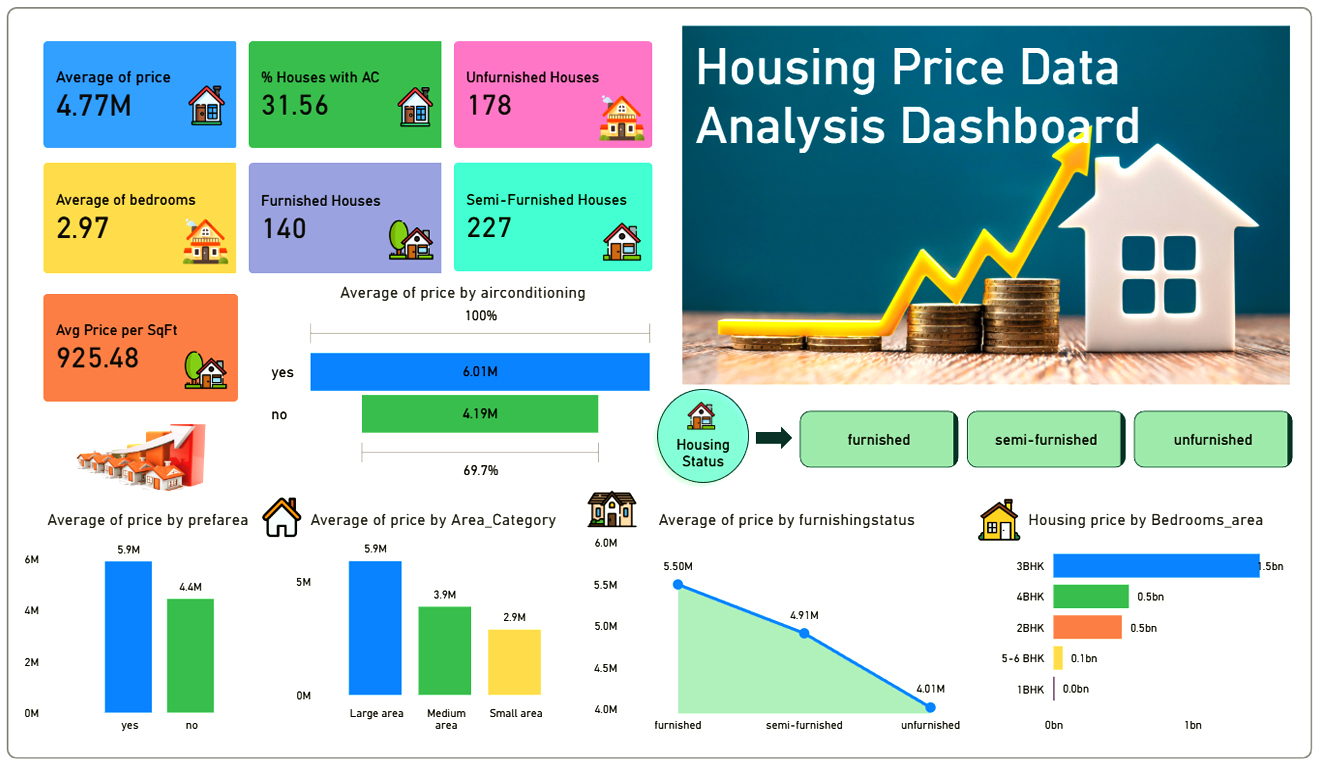

The dashboard page shown, as its layout file describes it:
{"tool":"powerbi","page":{"name":"Page 1","canvas":[1300,750],"ordinal":0},"visuals":[{"type":"shape","box":[637.6,370.3,108.6,109.6],"z":0},{"type":"image","box":[671.6,23.6,593.2,358],"z":1000},{"type":"shape","box":[681,31.2,498.7,130.4],"z":2000},{"type":"cardVisual","fields":{"Data":["Avg(Housing.price)"]},"box":[31.2,27.4,224.8,137.9],"z":3000},{"type":"cardVisual","fields":{"Data":["Avg(Housing.bedrooms)"]},"box":[31.2,144.5,224.8,141.7],"z":4000},{"type":"cardVisual","fields":{"Data":["Housing.Avg Price per SqFt"]},"box":[31.2,271.1,224.8,138.9],"z":5000},{"type":"cardVisual","fields":{"Data":["Housing.% Houses with AC"]},"box":[231.4,27.4,226.7,137.9],"z":6000},{"type":"cardVisual","fields":{"Data":["Housing.Furnished Houses"]},"box":[231.4,144.5,226.7,141.7],"z":7000},{"type":"cardVisual","fields":{"Data":["Housing.Semi-Furnished Houses"]},"box":[431.7,144.5,228.6,139.8],"z":8000},{"type":"cardVisual","fields":{"Data":["Housing.Unfurnished Houses"]},"box":[431.7,27.4,228.6,137.9],"z":9000},{"type":"columnChart","fields":{"Category":["Housing.Area_Category"],"Y":["Avg(Housing.price)"]},"box":[289,495.9,279.6,222],"z":10000},{"type":"areaChart","fields":{"Category":["Housing.furnishingstatus"],"Y":["Avg(Housing.price)"]},"box":[579,495.9,389.2,222],"z":11000},{"type":"funnel","fields":{"Category":["Housing.airconditioning"],"Y":["Avg(Housing.price)"]},"box":[265.4,276.8,384.4,195.5],"z":12000},{"type":"barChart","title":"Housing price by Bedrooms_area","fields":{"Category":["Housing.Bedrooms_area"],"Y":["Sum(Housing.price)"]},"box":[975.8,495.9,296.6,222],"z":13000},{"type":"clusteredColumnChart","fields":{"Category":["Housing.prefarea"],"Y":["Avg(Housing.price)"]},"box":[23.6,495.9,253.1,222],"z":14000},{"type":"image","box":[78.4,395.8,129.4,100.1],"z":15000},{"type":"advancedSlicerVisual","fields":{"Values":["Housing.furnishingstatus"]},"box":[781.2,395.8,491.2,65.2],"z":16000},{"type":"image","box":[188,78.4,38.7,55.7],"z":17000},{"type":"image","box":[181.4,215.4,50.1,44.4],"z":18000},{"type":"image","box":[185.1,341,42.5,40.6],"z":19000},{"type":"image","box":[391.1,88.8,40.6,37.8],"z":20000},{"type":"image","box":[382.6,214.4,49.1,43.5],"z":21000},{"type":"image","box":[587.5,96.3,50.1,44.4],"z":22000},{"type":"image","box":[591.3,219.1,43.5,36.8],"z":23000},{"type":"image","box":[955.9,484.6,50.1,44.4],"z":24000},{"type":"image","box":[258.8,484.6,43.5,37.8],"z":25000},{"type":"image","box":[579,468.5,48.2,53.8],"z":26000},{"type":"image","box":[670.7,392,38.7,27.4],"z":27000},{"type":"shape","box":[743.4,415.6,35.9,22.7],"z":27001},{"type":"shape","box":[12.3,11.3,1274.2,725.4],"z":27002}]}

Visuals, with their boxes in screenshot pixels (x1, y1, x2, y2), scaled from the page's 1300x750 canvas onto the 1321x768 screenshot:
shape: (648, 379, 758, 491)
image: (682, 24, 1285, 391)
shape: (692, 32, 1199, 165)
cardVisual - Avg(Housing.price): (32, 28, 260, 169)
cardVisual - Avg(Housing.bedrooms): (32, 148, 260, 293)
cardVisual - Housing.Avg Price per SqFt: (32, 278, 260, 420)
cardVisual - Housing.% Houses with AC: (235, 28, 466, 169)
cardVisual - Housing.Furnished Houses: (235, 148, 466, 293)
cardVisual - Housing.Semi-Furnished Houses: (439, 148, 671, 291)
cardVisual - Housing.Unfurnished Houses: (439, 28, 671, 169)
columnChart - Housing.Area_Category x Avg(Housing.price): (294, 508, 578, 735)
areaChart - Housing.furnishingstatus x Avg(Housing.price): (588, 508, 984, 735)
funnel - Housing.airconditioning x Avg(Housing.price): (270, 283, 660, 484)
"Housing price by Bedrooms_area" barChart: (992, 508, 1293, 735)
clusteredColumnChart - Housing.prefarea x Avg(Housing.price): (24, 508, 281, 735)
image: (80, 405, 211, 508)
advancedSlicerVisual - Housing.furnishingstatus: (794, 405, 1293, 472)
image: (191, 80, 230, 137)
image: (184, 221, 235, 266)
image: (188, 349, 231, 391)
image: (397, 91, 439, 130)
image: (389, 220, 439, 264)
image: (597, 99, 648, 144)
image: (601, 224, 645, 262)
image: (971, 496, 1022, 542)
image: (263, 496, 307, 535)
image: (588, 480, 637, 535)
image: (682, 401, 721, 429)
shape: (755, 426, 792, 449)
shape: (12, 12, 1307, 754)
